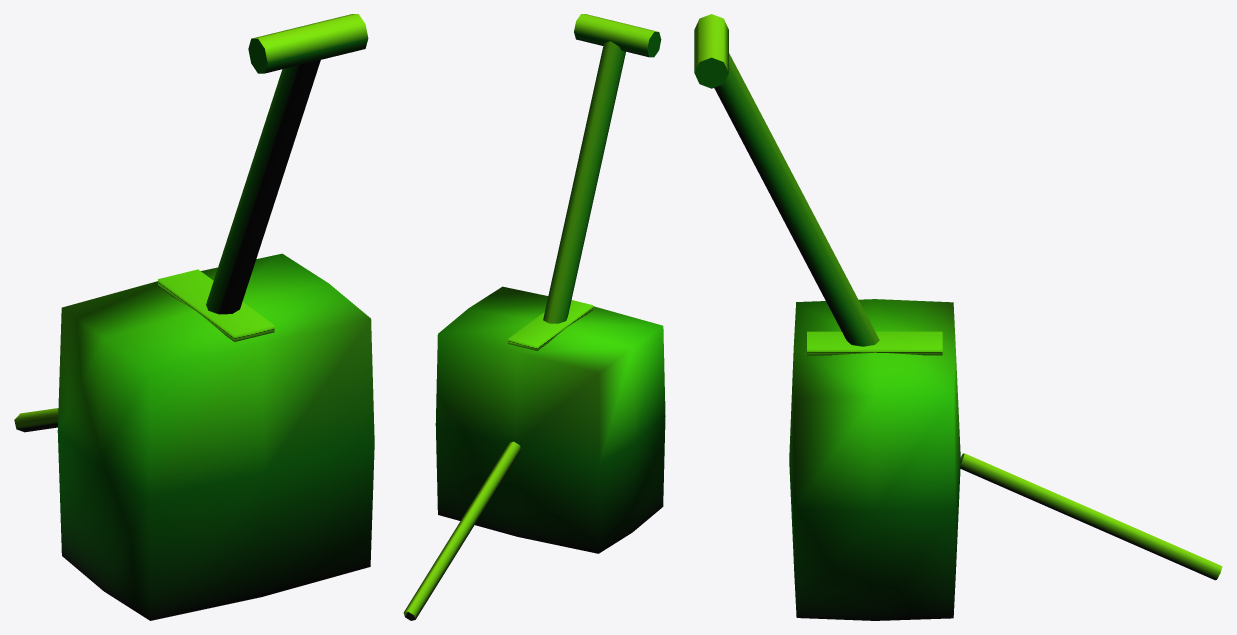
File: release_lever.glb
3 renders of one model, left to right at view 1: azimuth 30°, elevation 25°; view 2: azimuth 150°, elevation 25°; view 3: azimuth 270°, elevation 25°, orthographic. The views are drawn at different scales.
Parts seen in each view (by area): view 1: release_lever; view 2: release_lever; view 3: release_lever.
Boxes of the visible parts, <box> form: release_lever: <box>14,14,374,620</box>; release_lever: <box>403,14,665,620</box>; release_lever: <box>694,14,1222,620</box>.
Size of what is drawn, in the model's own units: 0.5612 by 1.4 by 1.23.
